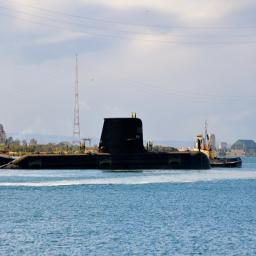submarine: (2, 118, 226, 168)
